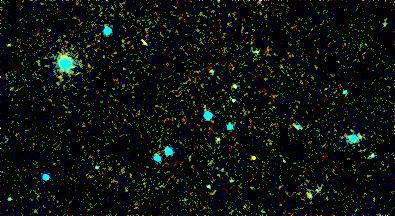star: (238, 147, 268, 177)
